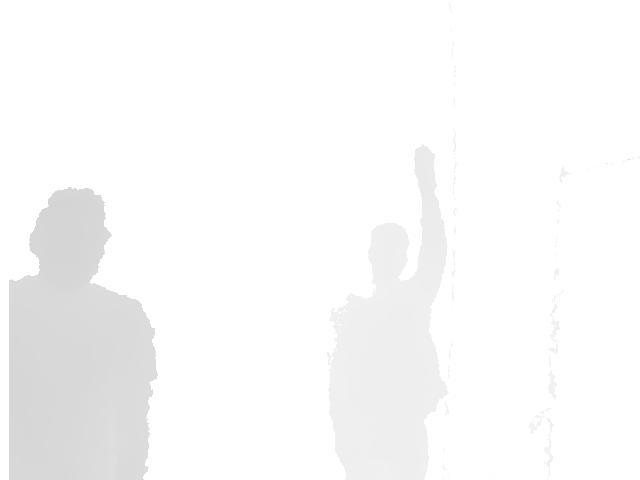hand: (413, 146, 437, 190)
head: (29, 186, 110, 293), (369, 223, 408, 290)
person: (9, 187, 158, 480), (327, 146, 449, 480)
